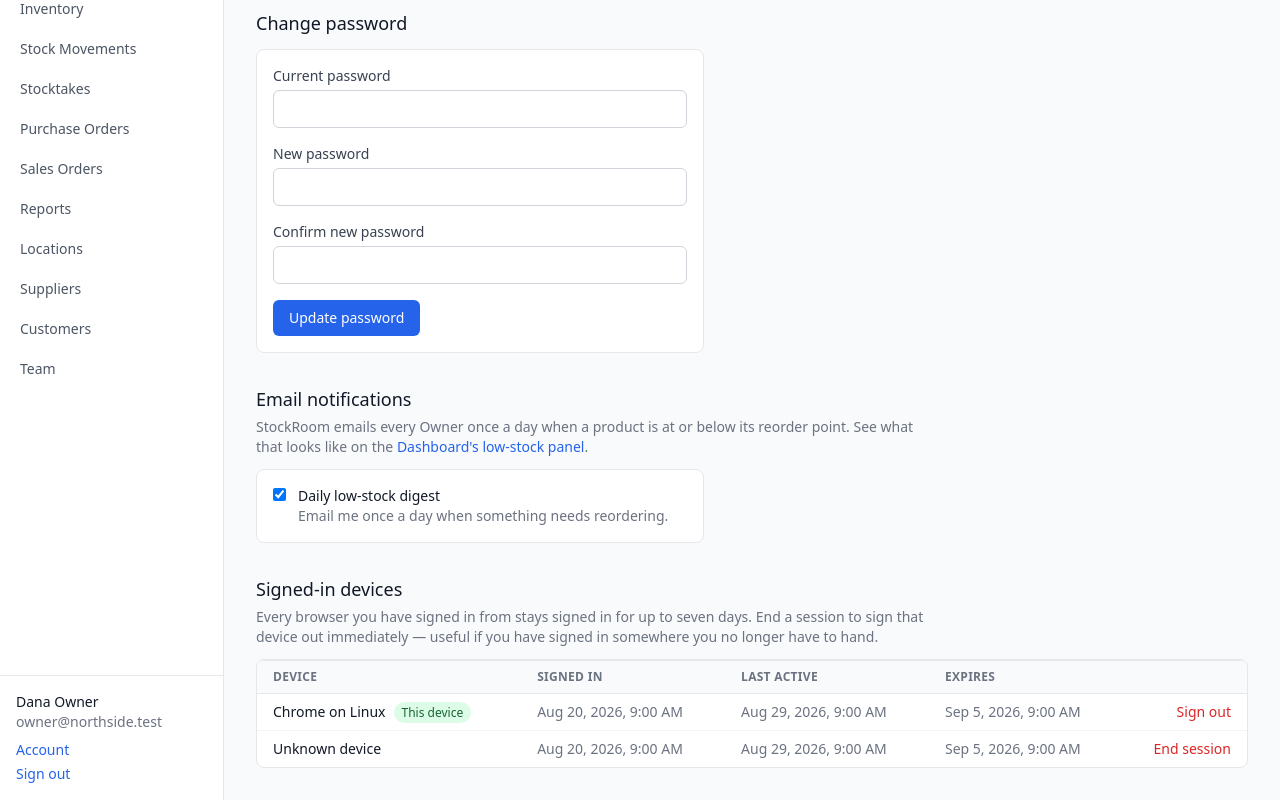
it: AccountPage sessions › ends nothing when the dialog is cancelled
The image size is (1280, 800).
(page scrolled)
Expected: the text "Unknown device" is shown, 257,730 -> 521,767
Click the button "End session": (1192, 749) 1154,739 -> 1231,759
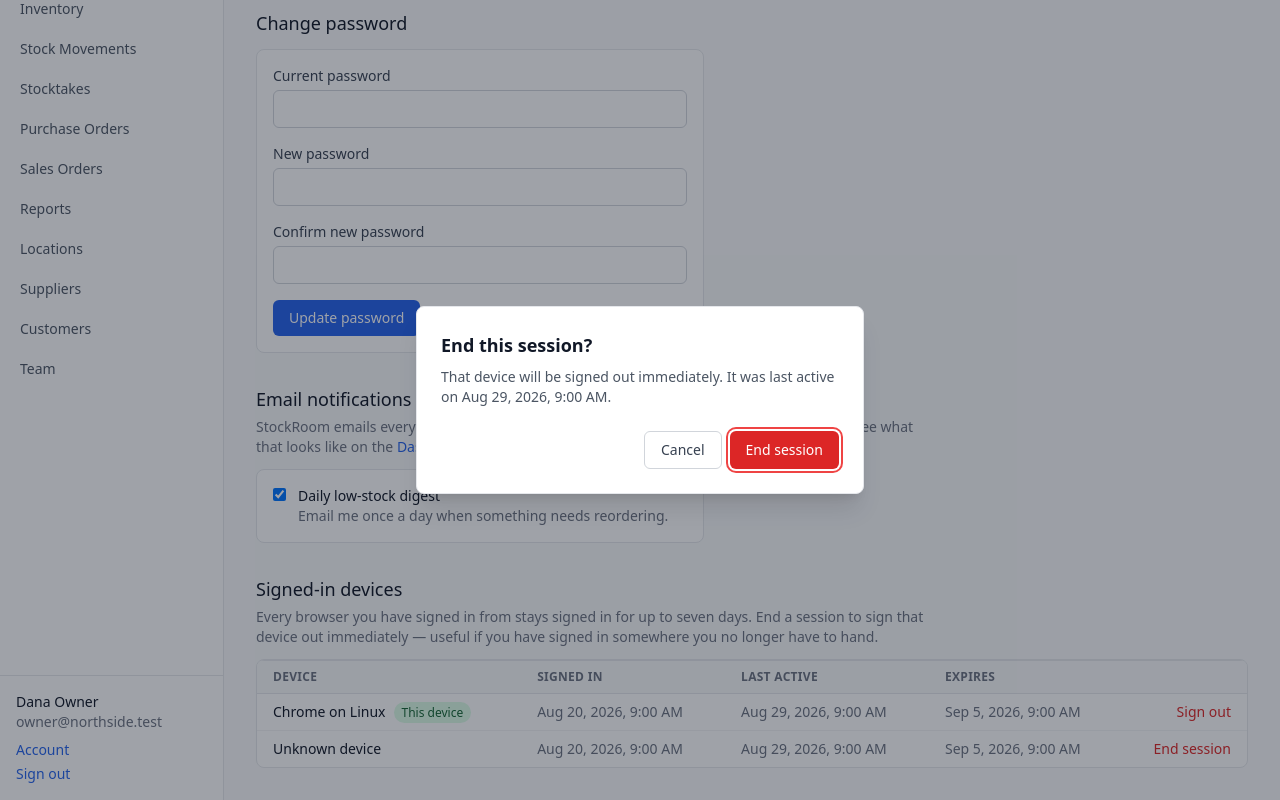
Click the button "Cancel": (683, 450) 644,431 -> 722,469
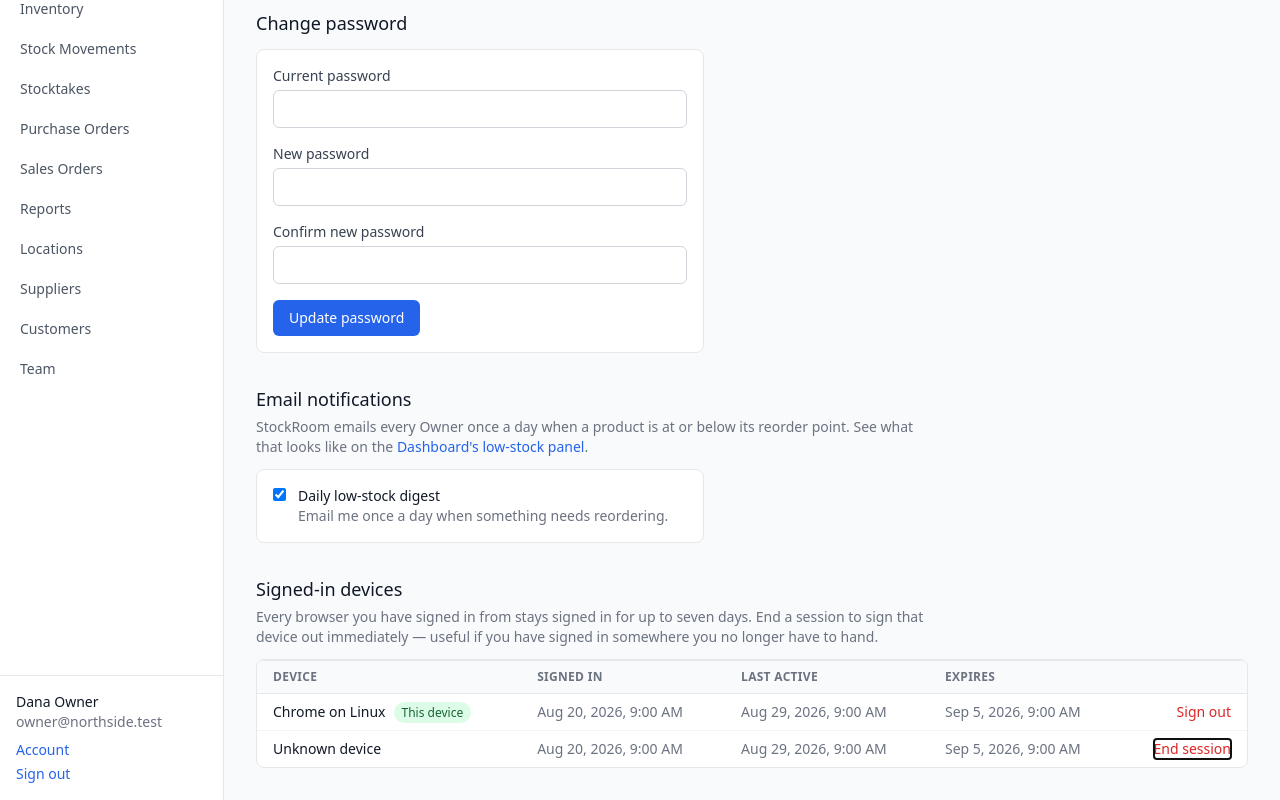
Now the dialog is gone
